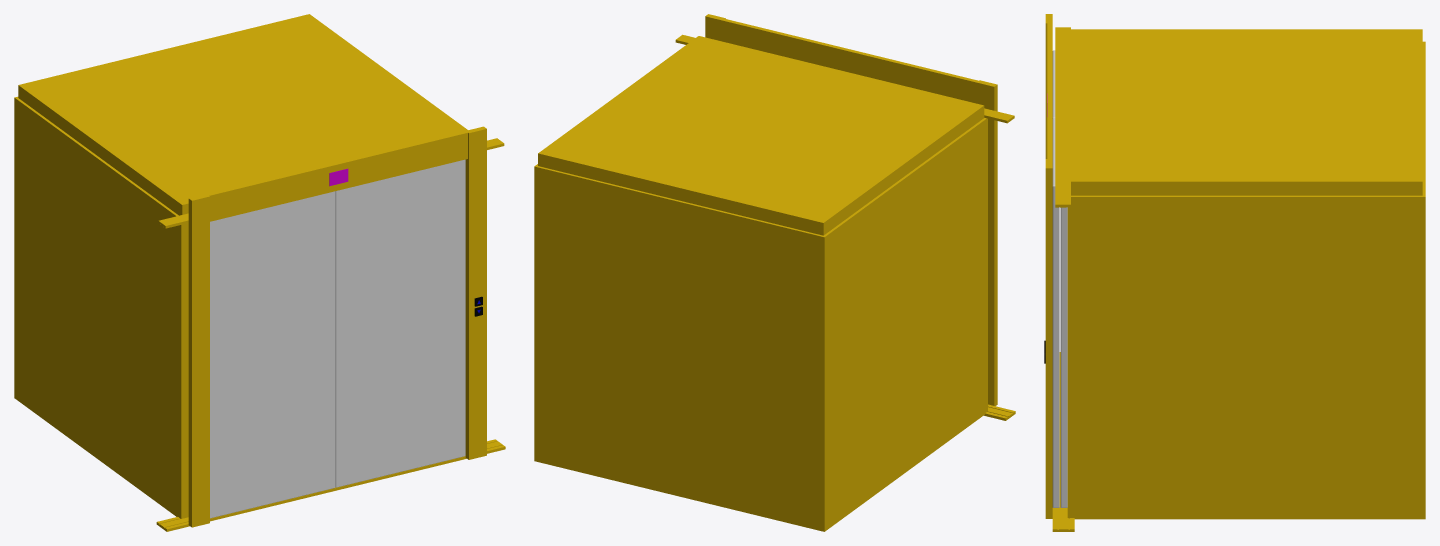
Rendered from Elevator.fbx.
3 renders of one model, left to right at view 1: azimuth 30°, elevation 25°; view 2: azimuth 150°, elevation 25°; view 3: azimuth 270°, elevation 25°, orthographic. The views are drawn at different scales.
Parts seen in each view (by area): view 1: ElevatorInterior, ElevatorExtreiorRightDoor, ElevatorExtreiorLeftDoor, ElevatorExteriorTrim; view 2: ElevatorInterior, ElevatorExteriorTrim; view 3: ElevatorInterior, ElevatorExteriorTrim, ElevatorExtreiorRightDoor, ElevatorInteriorRightDoor.
Boxes of the visible parts, x1=… form: ElevatorInterior: x1=14, y1=14, x2=467, y2=518; ElevatorExtreiorRightDoor: x1=335, y1=159, x2=465, y2=487; ElevatorExtreiorLeftDoor: x1=210, y1=191, x2=335, y2=518; ElevatorExteriorTrim: x1=156, y1=126, x2=505, y2=531; ElevatorInterior: x1=534, y1=36, x2=987, y2=531; ElevatorExteriorTrim: x1=675, y1=14, x2=1015, y2=420; ElevatorInterior: x1=1067, y1=29, x2=1425, y2=519; ElevatorExteriorTrim: x1=1044, y1=14, x2=1074, y2=531; ElevatorExtreiorRightDoor: x1=1052, y1=118, x2=1059, y2=507; ElevatorInteriorRightDoor: x1=1060, y1=207, x2=1067, y2=507.
Size of the model in its own units: 294 by 272 by 267.
